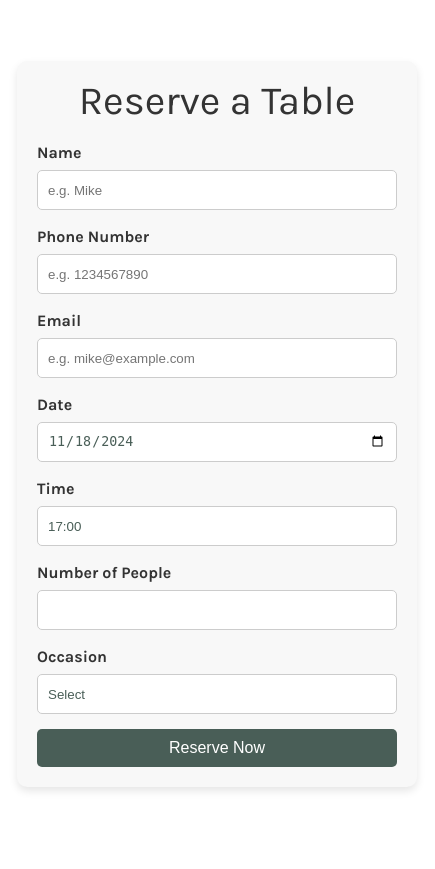
Test: Form validation logic › shows error if number of people is empty
The width and height of the screenshot is (435, 869).
Click the button "Reserve Now": (217,748) [37, 729, 397, 767]
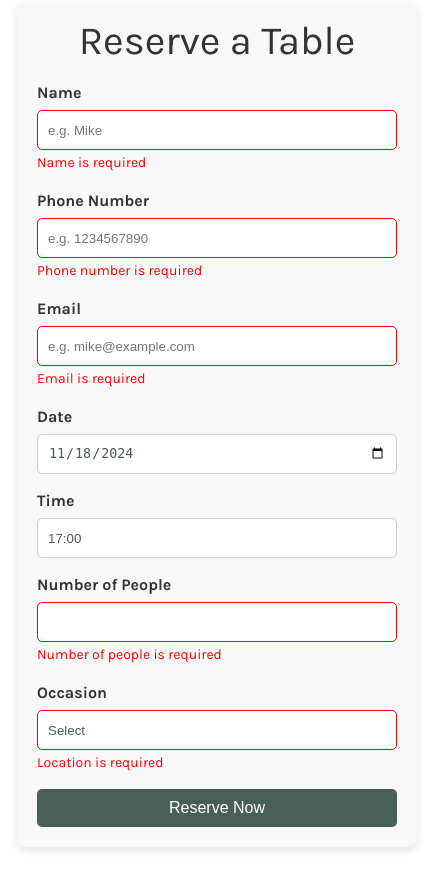
Check: the text "Number of people is required" is shown, box [37, 646, 222, 663]
